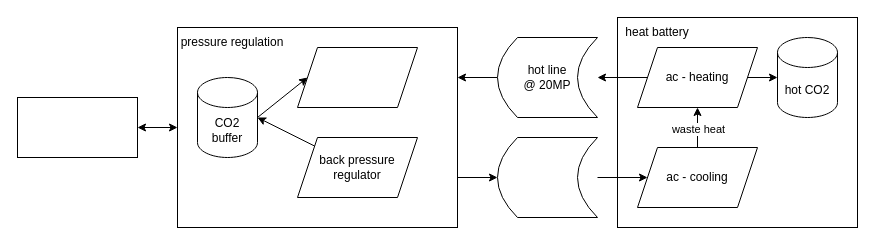
Image size: 875x245. Some labels were removed from this diagram. The centre of each missing label's shape, as x and y in pixels:
base: the point at 77,127
cold line @ 20MP: the point at 547,177
pressure regulator: the point at 357,77
